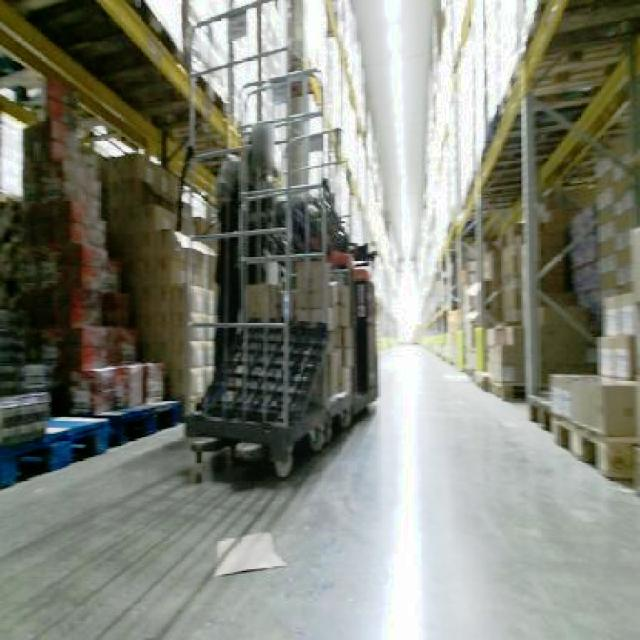ground: (0, 340, 638, 638)
pallet: (420, 0, 638, 526), (182, 66, 378, 480), (0, 395, 183, 502), (0, 182, 52, 495), (526, 389, 638, 497)
